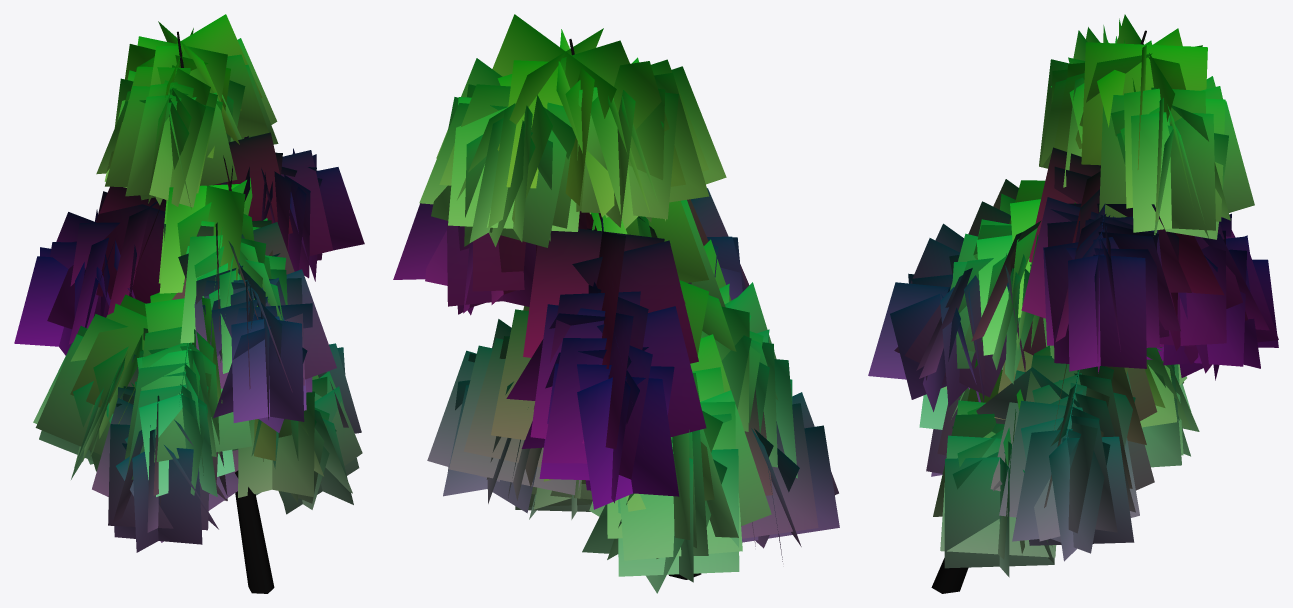
Rendered from URP_P13_Tree_10_LOD_3.fbx.
3 views of the same model, side by side, from view 1: azimuth 30°, elevation 25°; view 2: azimuth 150°, elevation 25°; view 3: azimuth 270°, elevation 25° (orthographic). The views are drawn at different scales.
Parts seen in each view (by area): view 1: Tree_10_LOD_3; view 2: Tree_10_LOD_3; view 3: Tree_10_LOD_3.
Boxes of the visible parts, left/top/right/bottom form: Tree_10_LOD_3: left=14, top=14, right=364, bottom=593; Tree_10_LOD_3: left=393, top=14, right=839, bottom=593; Tree_10_LOD_3: left=868, top=14, right=1278, bottom=593.
Bounding box in the file's own units: 352 × 575 × 377.
